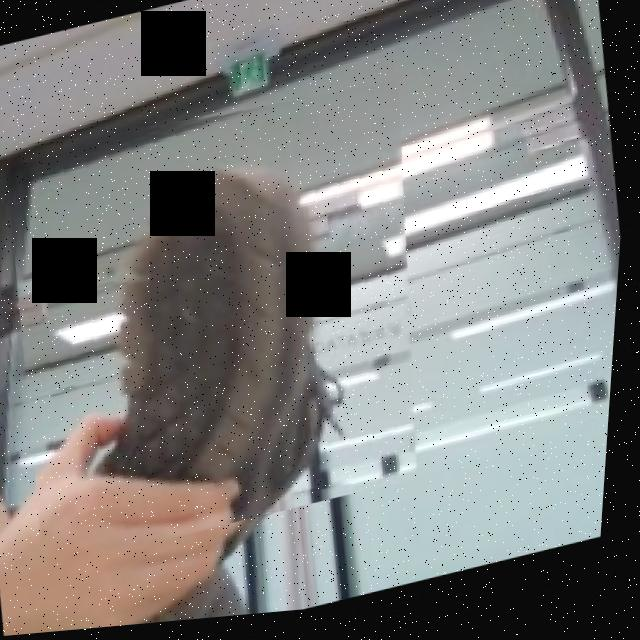shoe: (0, 66, 464, 576)
